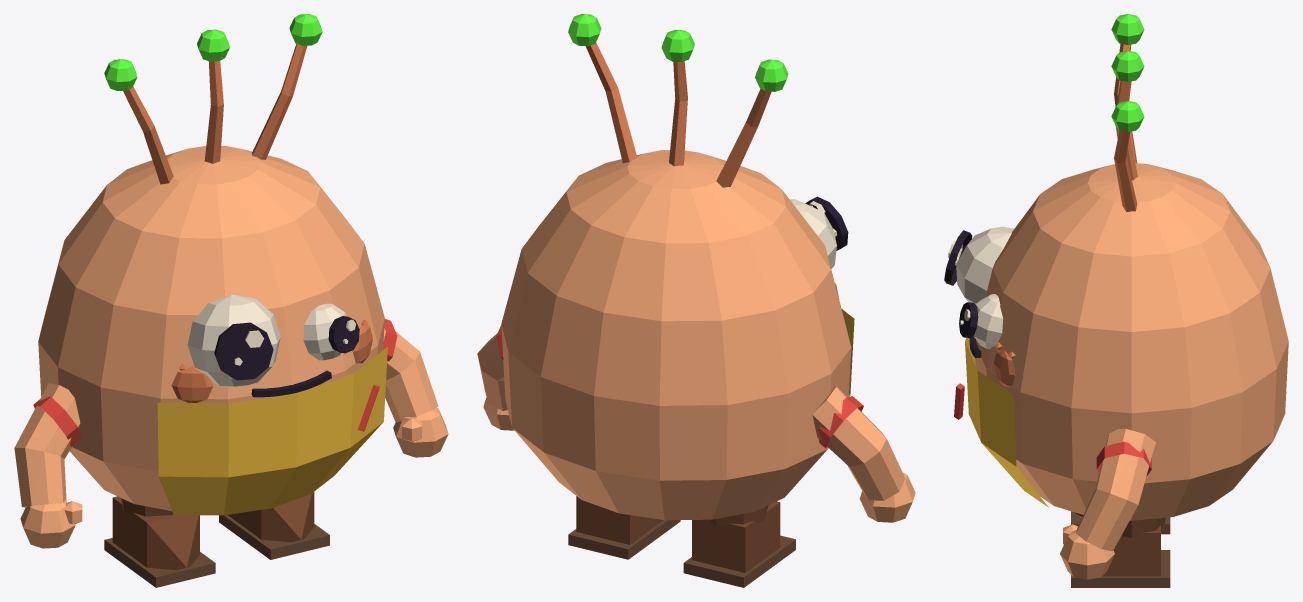
File: Char_Native_Shopkeeper.obj
3 renders of one model, left to right at view 1: azimuth 30°, elevation 25°; view 2: azimuth 150°, elevation 25°; view 3: azimuth 270°, elevation 25°, orthographic. The views are drawn at different scales.
Parts seen in each view (by area): view 1: Char_Native_Shopkeeper_Body, Char_Native_Shopkeeper_Head, Char_Native_Shopkeeper_Arm_R, Char_Native_Shopkeeper_Leg_R, Char_Native_Shopkeeper_Arm_L, Char_Native_Shopkeeper_Leg_L; view 2: Char_Native_Shopkeeper_Body, Char_Native_Shopkeeper_Head, Char_Native_Shopkeeper_Leg_R, Char_Native_Shopkeeper_Arm_R, Char_Native_Shopkeeper_Leg_L, Char_Native_Shopkeeper_Arm_L; view 3: Char_Native_Shopkeeper_Body, Char_Native_Shopkeeper_Head, Char_Native_Shopkeeper_Arm_L, Char_Native_Shopkeeper_Leg_L.
Boxes of the visible parts, x1=… form: Char_Native_Shopkeeper_Body: x1=33, y1=146, x2=397, y2=515; Char_Native_Shopkeeper_Head: x1=104, y1=14, x2=372, y2=402; Char_Native_Shopkeeper_Arm_R: x1=14, y1=383, x2=82, y2=548; Char_Native_Shopkeeper_Leg_R: x1=104, y1=496, x2=215, y2=587; Char_Native_Shopkeeper_Arm_L: x1=383, y1=328, x2=448, y2=457; Char_Native_Shopkeeper_Leg_L: x1=219, y1=492, x2=329, y2=559; Char_Native_Shopkeeper_Body: x1=496, y1=150, x2=863, y2=520; Char_Native_Shopkeeper_Head: x1=568, y1=14, x2=848, y2=299; Char_Native_Shopkeeper_Leg_R: x1=683, y1=501, x2=795, y2=587; Char_Native_Shopkeeper_Arm_R: x1=812, y1=385, x2=915, y2=522; Char_Native_Shopkeeper_Leg_L: x1=568, y1=496, x2=680, y2=559; Char_Native_Shopkeeper_Arm_L: x1=477, y1=333, x2=514, y2=430; Char_Native_Shopkeeper_Body: x1=954, y1=163, x2=1288, y2=520; Char_Native_Shopkeeper_Head: x1=944, y1=14, x2=1144, y2=386; Char_Native_Shopkeeper_Arm_L: x1=1060, y1=428, x2=1155, y2=579; Char_Native_Shopkeeper_Leg_L: x1=1071, y1=517, x2=1170, y2=587.
Size of the model in its own units: 1.28 by 1.49 by 0.9366.
